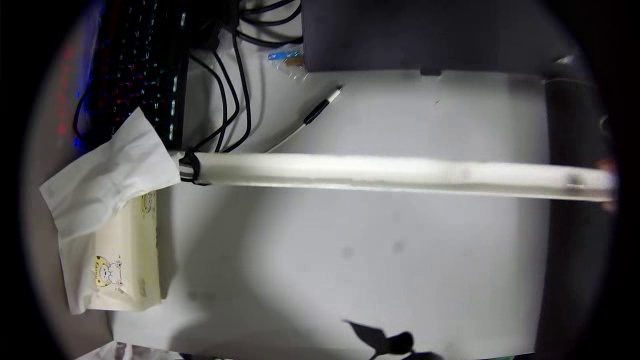gangzhu: (177, 159, 202, 181)
